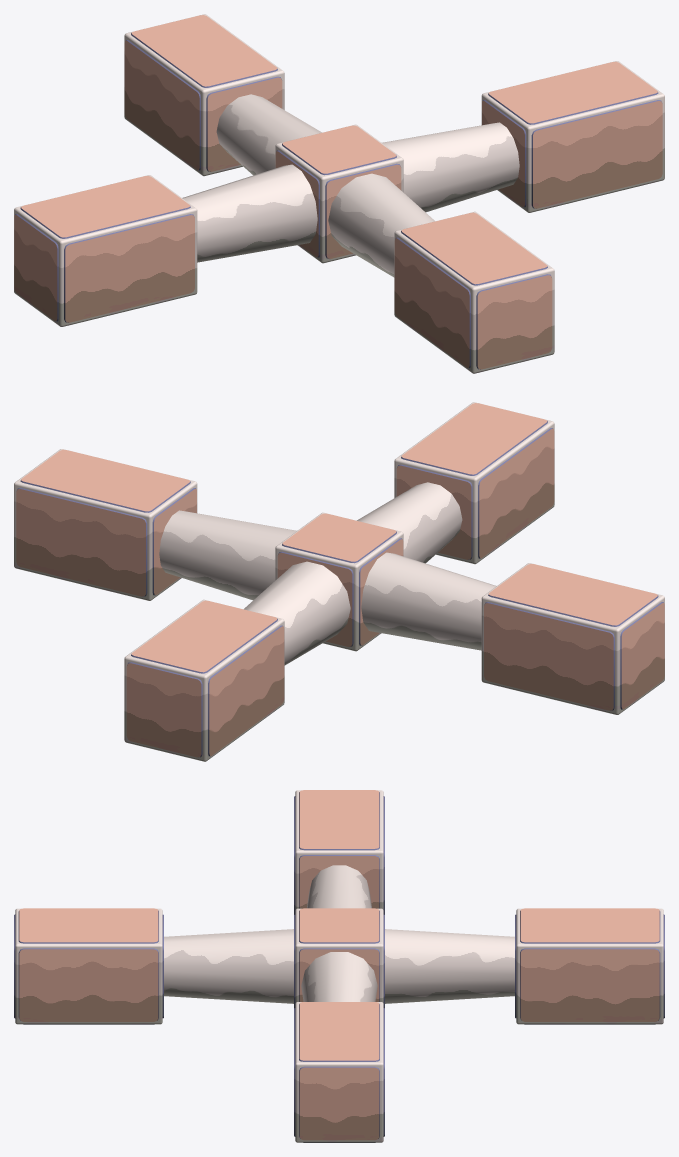
File: R4C_ROD_PLUS.glb
3 renders of one model, top to bottom at view 1: azimuth 30°, elevation 25°; view 2: azimuth 150°, elevation 25°; view 3: azimuth 270°, elevation 25°, orthographic. The views are drawn at different scales.
Visible parts, largest first — view 1: R4C_ROD_PLUS; view 2: R4C_ROD_PLUS; view 3: R4C_ROD_PLUS.
Part boxes in pixels (x1,y1,x2,y2): R4C_ROD_PLUS: [14, 14, 664, 373]; R4C_ROD_PLUS: [14, 402, 664, 761]; R4C_ROD_PLUS: [14, 790, 664, 1142].
Size of the model in its own units: 1.62 by 0.226 by 1.62.
Materials: 3 (3 with a texture image).
